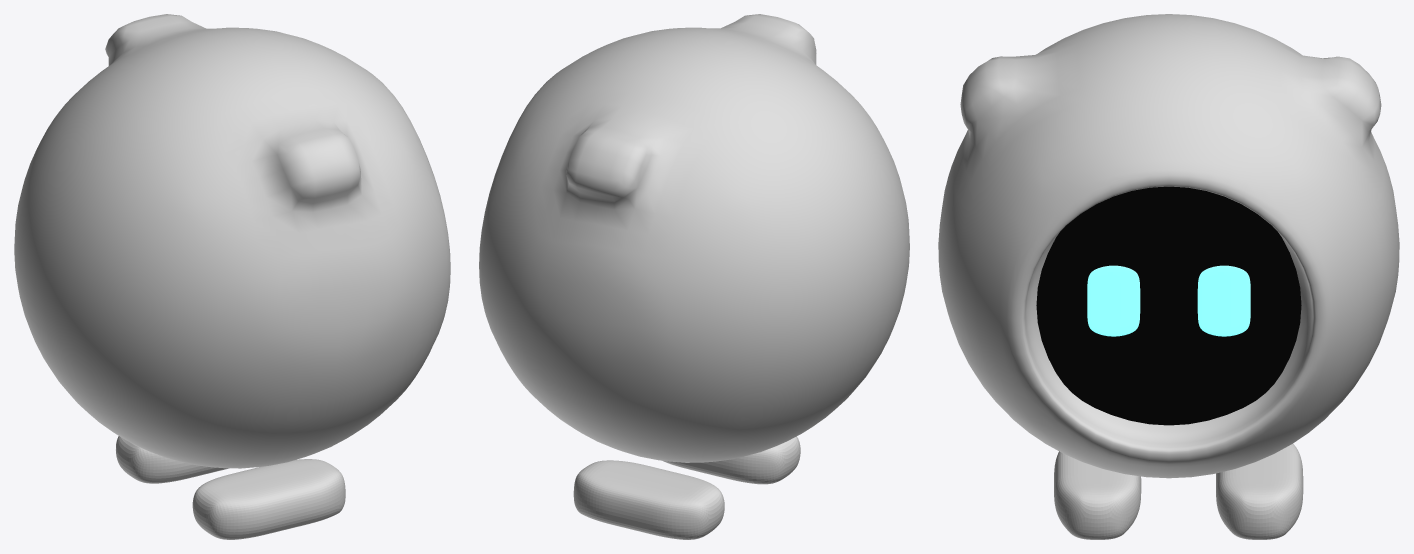
Rendered from robot.glb.
3 views of the same model, side by side, from view 1: azimuth 30°, elevation 25°; view 2: azimuth 150°, elevation 25°; view 3: azimuth 270°, elevation 25° (orthographic). The views are drawn at different scales.
Parts seen in each view (by area): view 1: Cube_0, Cube.002_9; view 2: Cube_0, Cube.002_9; view 3: Cube_0, Cube.001_3, Cube.002_9, Plane_2.
Part boxes in pixels (x1,y1,x2,y2): Cube_0: (14,14,450,468); Cube.002_9: (116,436,345,539); Cube_0: (479,14,909,462); Cube.002_9: (573,436,800,539); Cube_0: (938,14,1399,478); Cube.001_3: (1036,186,1301,425); Cube.002_9: (1054,444,1303,539); Plane_2: (1087,265,1250,336).
Size of the model in its own units: 1.47 by 1.9 by 1.68.
